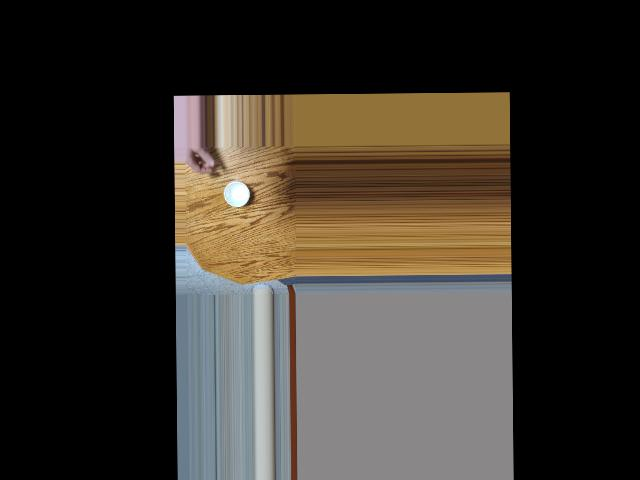cotage: (219, 175, 248, 209)
